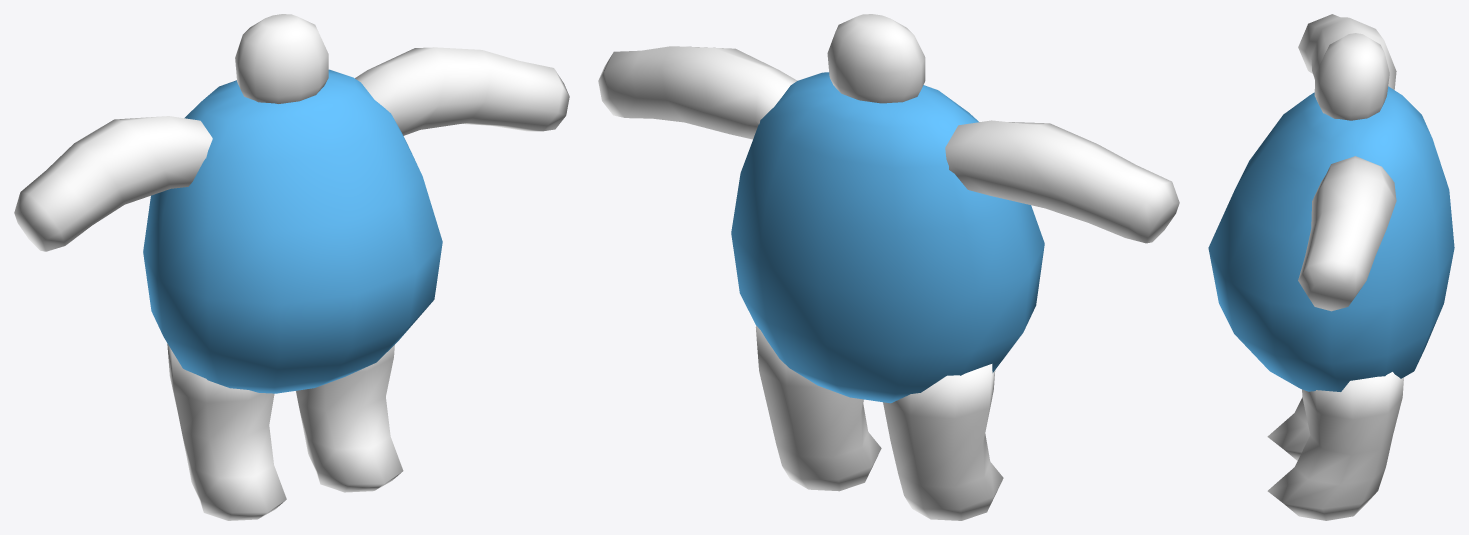
Rendered from Player.fbx.
3 renders of one model, left to right at view 1: azimuth 30°, elevation 25°; view 2: azimuth 150°, elevation 25°; view 3: azimuth 270°, elevation 25°, orthographic. The views are drawn at different scales.
Visible parts, largest first — view 1: Body, Arm_Right, Arm_Left, Leg_Right, Leg_Left, Character_Head; view 2: Body, Arm_Right, Leg_Right, Arm_Left, Leg_Left, Character_Head; view 3: Body, Leg_Left, Arm_Left, Character_Head, Arm_Right, Leg_Right.
Boxes of the visible parts, left/top/right/bottom form: Body: left=143, top=69, right=442, bottom=393; Arm_Right: left=14, top=116, right=212, bottom=251; Arm_Left: left=355, top=47, right=569, bottom=135; Leg_Right: left=167, top=343, right=286, bottom=520; Leg_Left: left=296, top=345, right=403, bottom=492; Character_Head: left=235, top=14, right=328, bottom=103; Body: left=731, top=72, right=1044, bottom=403; Arm_Right: left=945, top=120, right=1179, bottom=243; Leg_Right: left=883, top=364, right=1003, bottom=520; Arm_Left: left=598, top=46, right=797, bottom=139; Leg_Left: left=755, top=326, right=881, bottom=491; Character_Head: left=827, top=14, right=925, bottom=103; Body: left=1208, top=86, right=1454, bottom=391; Leg_Left: left=1267, top=372, right=1403, bottom=520; Arm_Left: left=1298, top=156, right=1396, bottom=311; Character_Head: left=1314, top=33, right=1389, bottom=120; Arm_Right: left=1298, top=14, right=1396, bottom=89; Leg_Right: left=1267, top=397, right=1310, bottom=460.
Bounding box in the file's own units: 1158 × 933 × 476.
